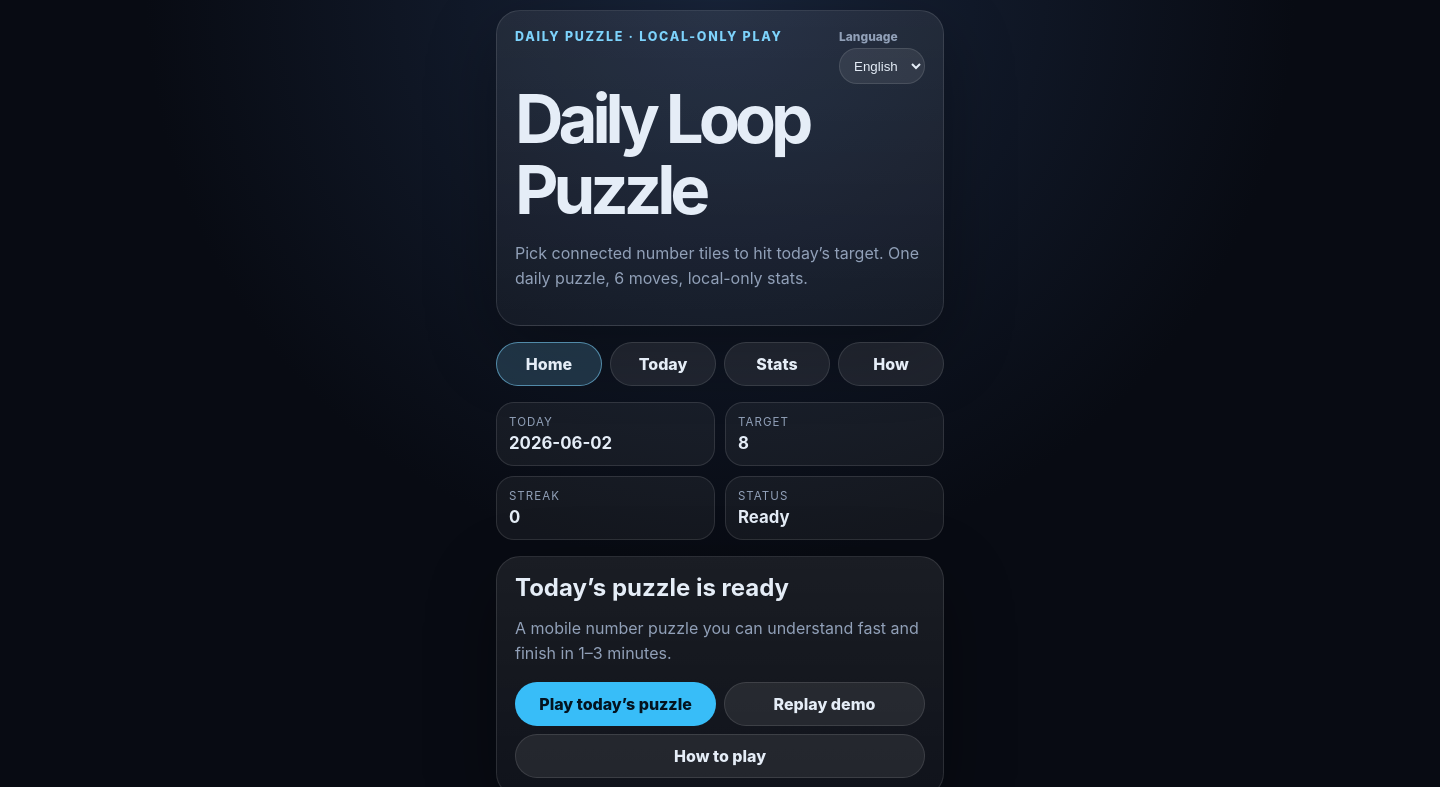
Test: App onboarding and language behavior › switches language locally without resetting puzzle state
Click the button "Today": (663,364) [610, 342, 716, 386]
(page scrolled)
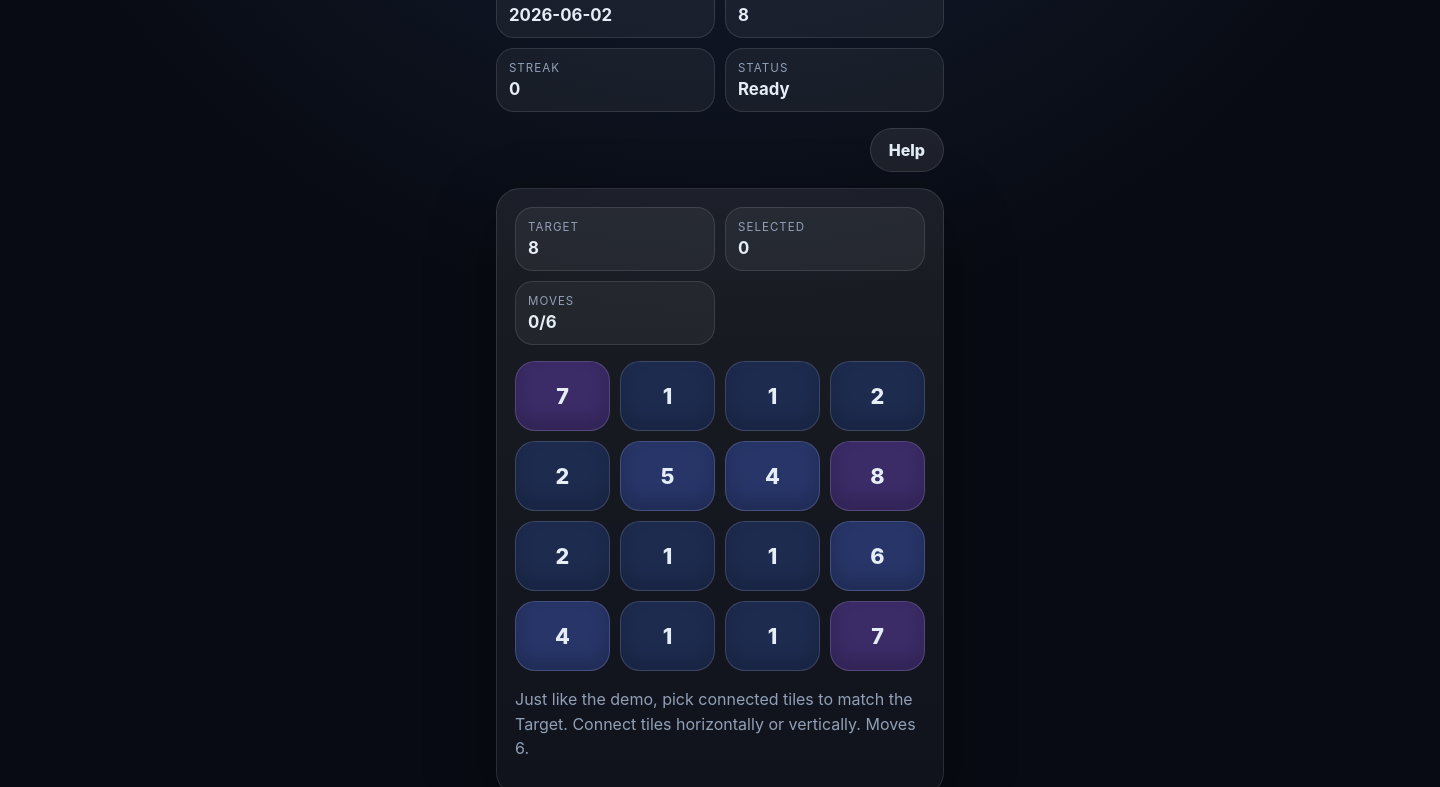
Click the 1st cell "7": (562,396) [515, 361, 610, 431]
(page scrolled)
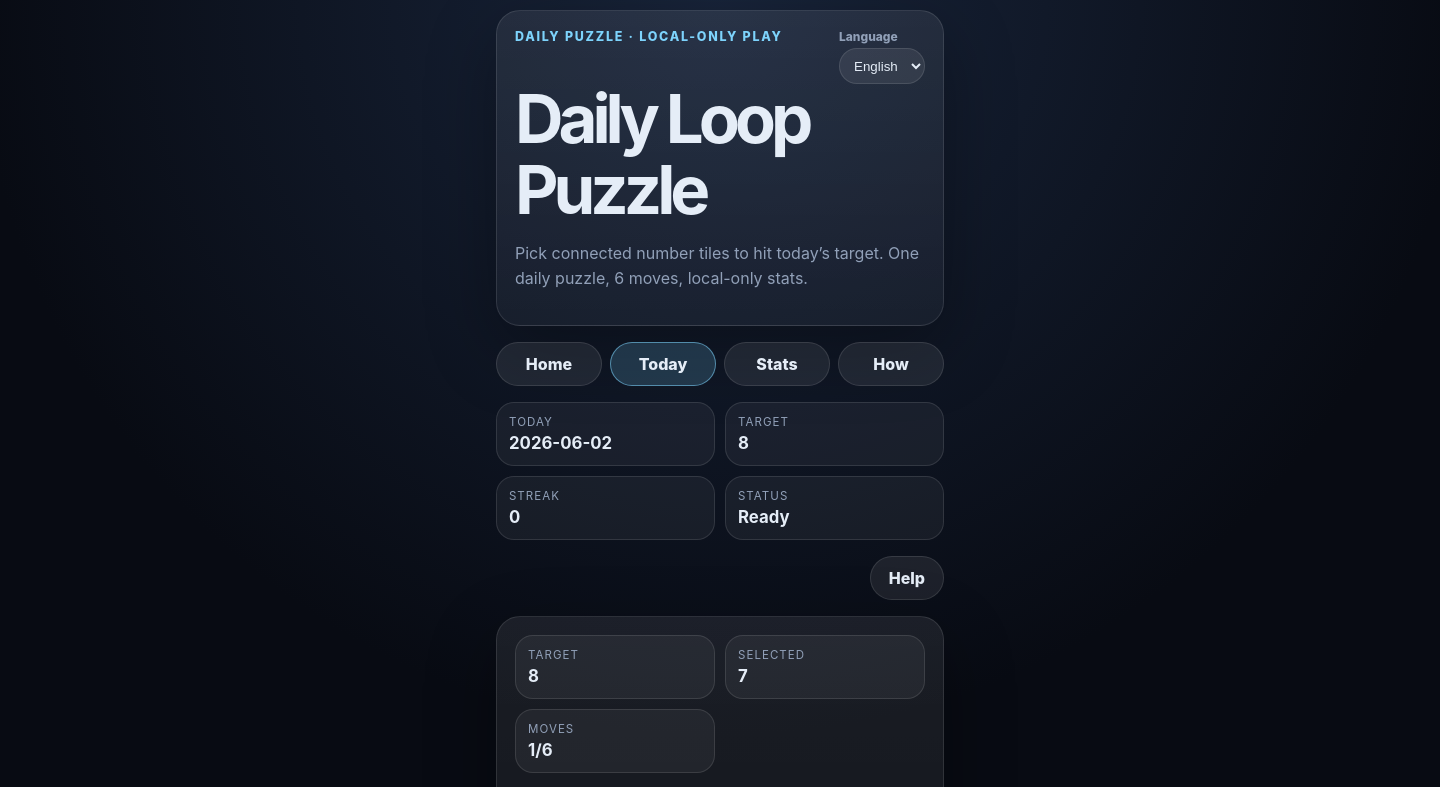
Now the text "1/6" is shown, box [528, 740, 553, 760]
Select "한국어" in the dropdown labelled "Language": (882,66) [839, 48, 925, 84]
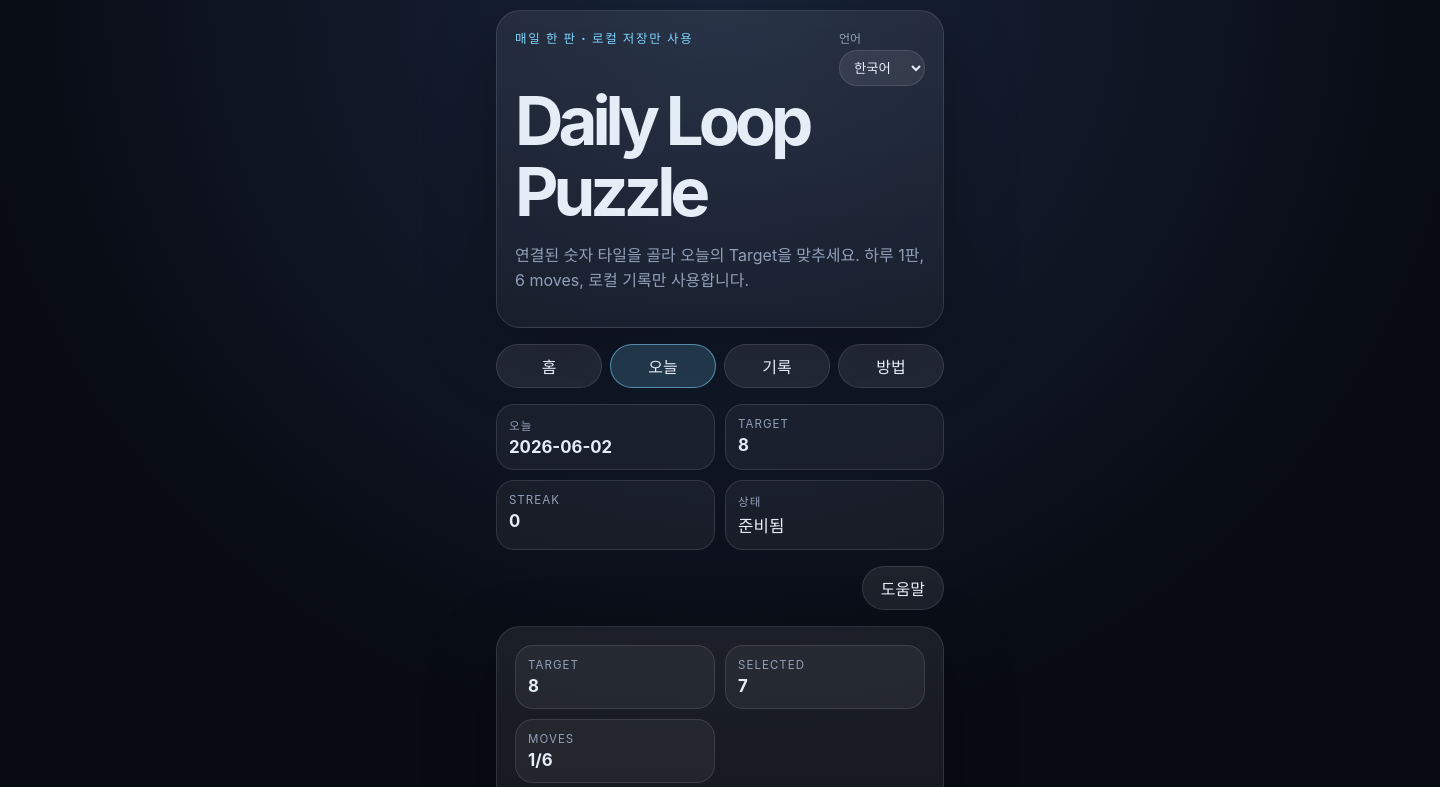
Now the text "1/6" is shown, box [528, 750, 553, 770]
Now the button "홈" is shown, box [496, 344, 602, 388]
